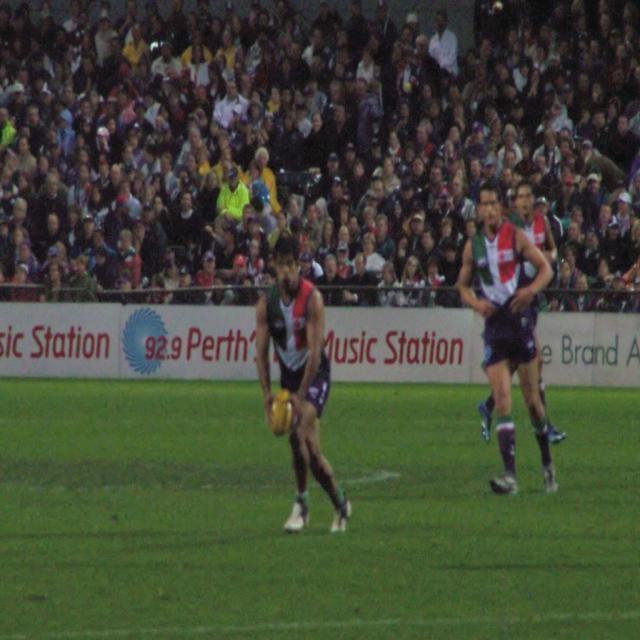ball: (267, 388, 290, 436)
